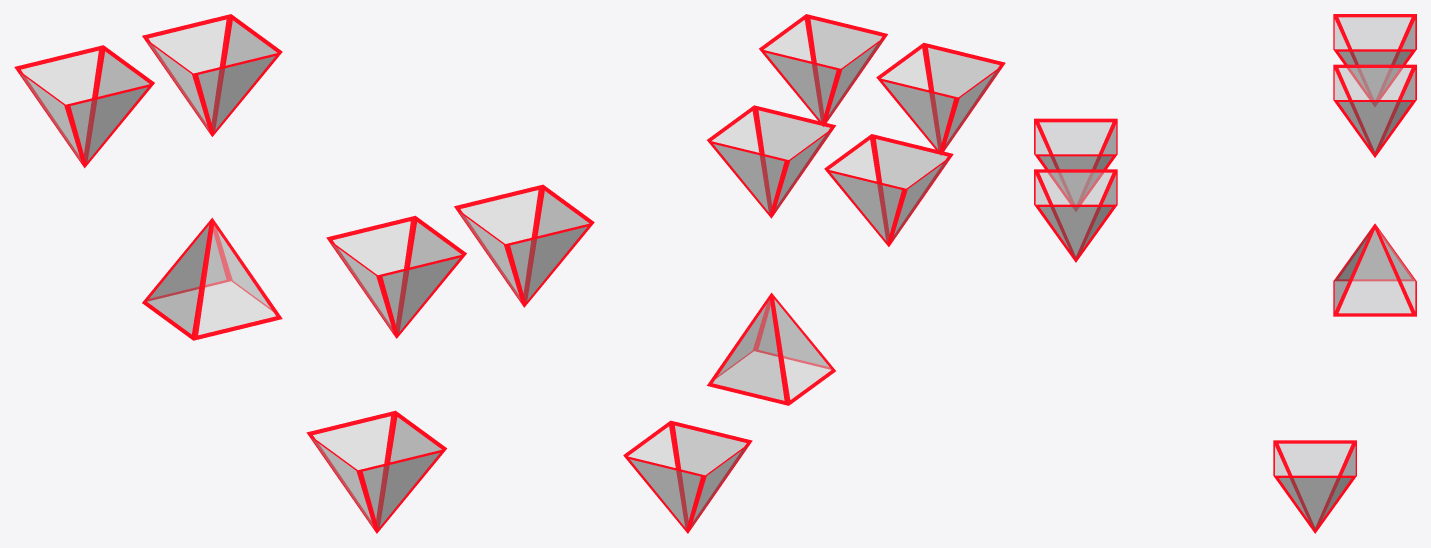
File: (4)H GSpike.fbx
3 renders of one model, left to right at view 1: azimuth 30°, elevation 25°; view 2: azimuth 150°, elevation 25°; view 3: azimuth 270°, elevation 25°, orthographic. The views are drawn at different scales.
Parts seen in each view (by area): view 1: UdDownSpike.002, UdDownSpike.001, UdDownSpike.004, UdDownSpike.005, Spike..001, UdDownSpike.003; view 2: Spike..001, UdDownSpike.001, UdDownSpike.004, UdDownSpike.005, UdDownSpike.003, UdDownSpike.002; view 3: UdDownSpike.004, UdDownSpike.001, UdDownSpike.002, Spike..001, UdDownSpike.003, UdDownSpike.005.
Part boxes in pixels (box(x1,y1,x2,y2)): UdDownSpike.002: box(454, 184, 594, 307); UdDownSpike.001: box(306, 410, 446, 533); UdDownSpike.004: box(142, 14, 282, 136); UdDownSpike.005: box(14, 45, 154, 168); Spike..001: box(142, 217, 282, 340); UdDownSpike.003: box(326, 215, 466, 338); Spike..001: box(707, 292, 835, 405); UdDownSpike.001: box(623, 420, 752, 533); UdDownSpike.004: box(707, 105, 835, 218); UdDownSpike.005: box(824, 134, 953, 246); UdDownSpike.003: box(876, 42, 1005, 155); UdDownSpike.002: box(759, 14, 887, 126); UdDownSpike.004: box(1333, 64, 1416, 157); UdDownSpike.001: box(1273, 440, 1356, 533); UdDownSpike.002: box(1034, 169, 1117, 262); Spike..001: box(1333, 223, 1416, 316); UdDownSpike.003: box(1034, 118, 1117, 210); UdDownSpike.005: box(1333, 14, 1416, 106).
Size of the model in its own units: 540 by 740 by 640.
